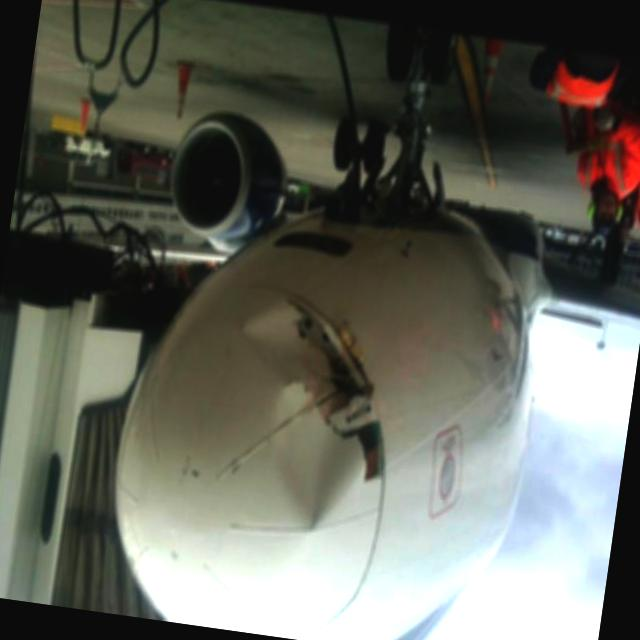dent: (260, 380, 364, 531), (236, 304, 315, 374)
